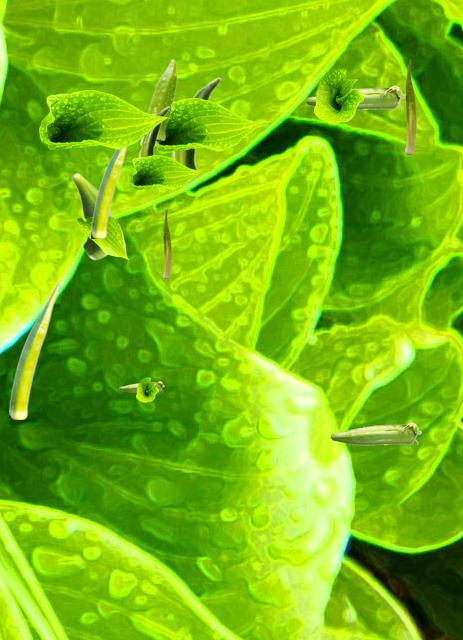okra: (9, 280, 60, 418), (171, 77, 220, 183), (71, 172, 113, 259), (91, 148, 127, 237), (305, 85, 404, 109), (147, 58, 176, 139), (330, 422, 420, 444), (138, 106, 169, 156), (405, 59, 415, 153), (163, 209, 170, 277), (119, 381, 163, 391)
